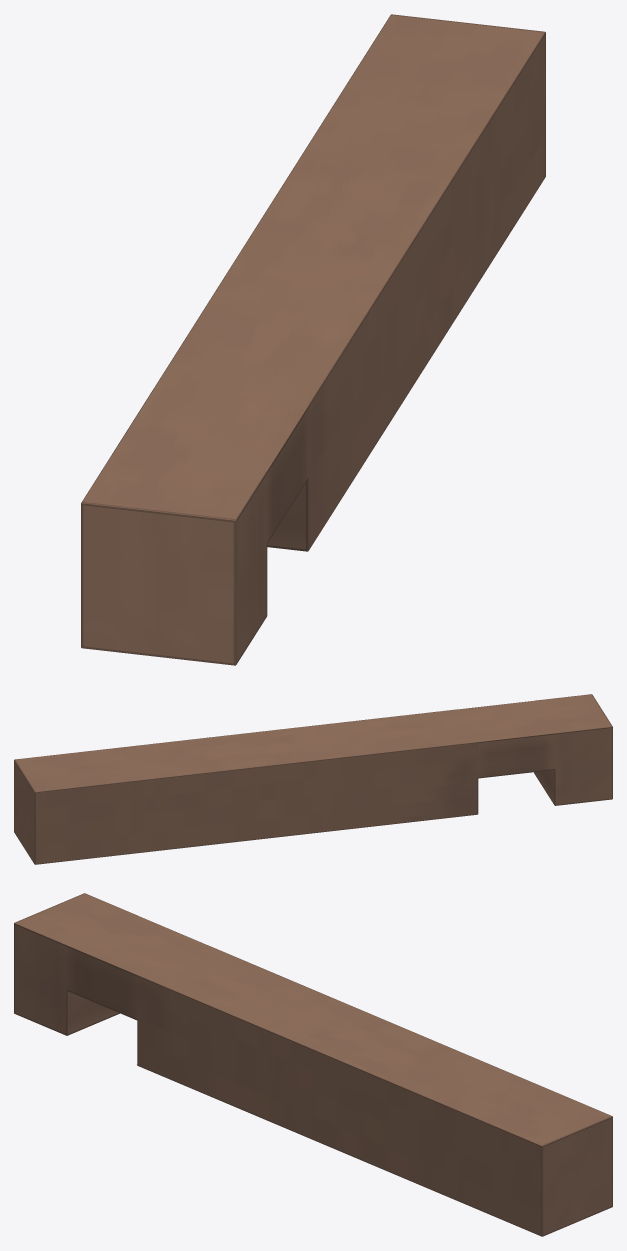
The picture shows the model from 3 angles, top to bottom: view 1: azimuth 30°, elevation 25°; view 2: azimuth 150°, elevation 25°; view 3: azimuth 270°, elevation 25°; orthographic projection. The views are drawn at different scales.
Visible parts, largest first — view 1: part-b; view 2: part-b; view 3: part-b.
Boxes of the visible parts, x1,y1,x2,y2 form: part-b: (81, 14, 545, 665); part-b: (14, 694, 612, 864); part-b: (14, 893, 612, 1236).
Size of the model in its own units: 0.7218 by 0.1208 by 0.7218.
